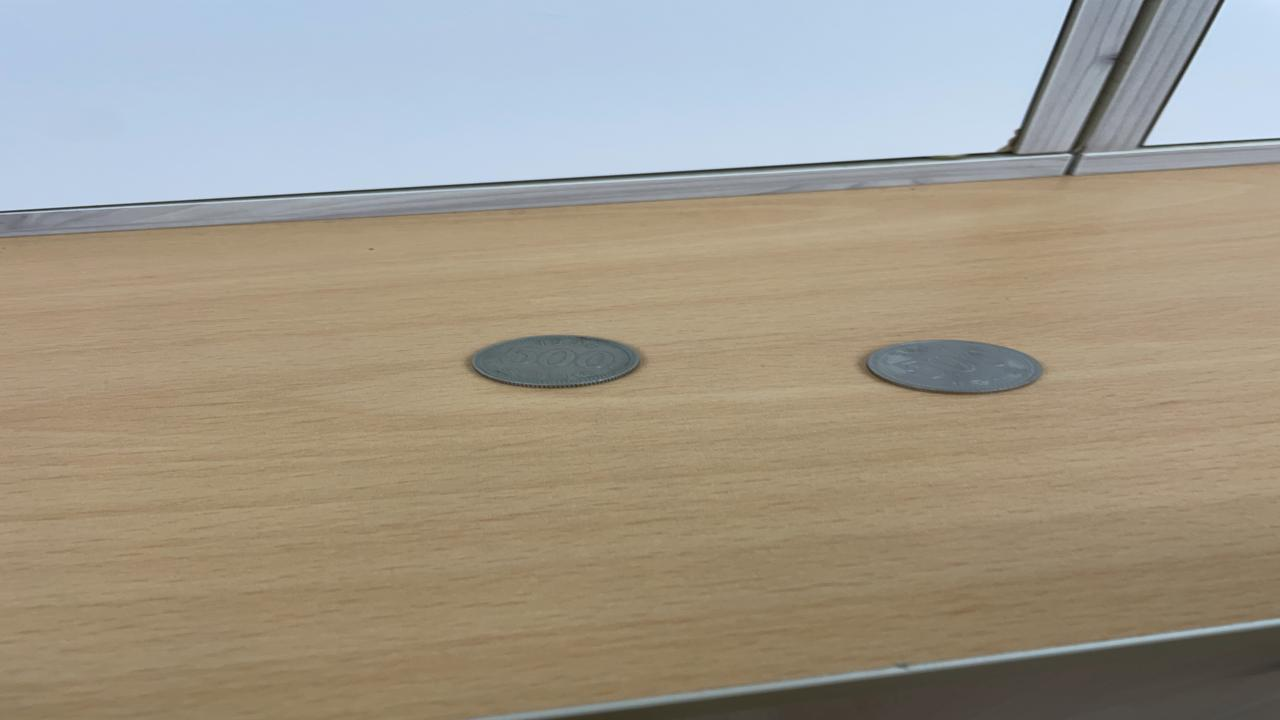coin: (860, 336, 1048, 396), (466, 332, 646, 389)
